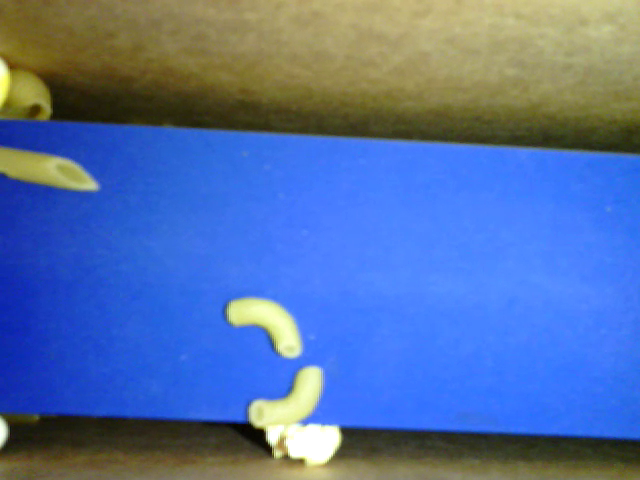elbow: (250, 364, 327, 428), (225, 297, 302, 360)
penne: (2, 145, 100, 193)
shell: (2, 70, 53, 125)
